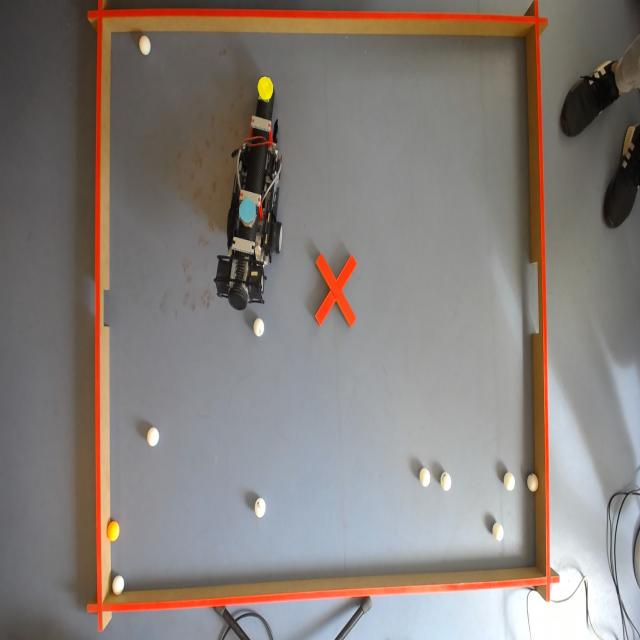orange: (107, 520, 121, 541)
robot: (214, 72, 282, 311)
robot-front: (258, 76, 275, 102)
robot-rear: (238, 190, 256, 228)
white: (146, 426, 160, 448), (491, 520, 505, 542), (112, 575, 127, 595), (254, 496, 267, 519), (139, 35, 152, 56), (254, 316, 266, 338), (527, 473, 539, 494), (440, 473, 452, 492), (420, 468, 431, 486), (504, 472, 515, 490)
